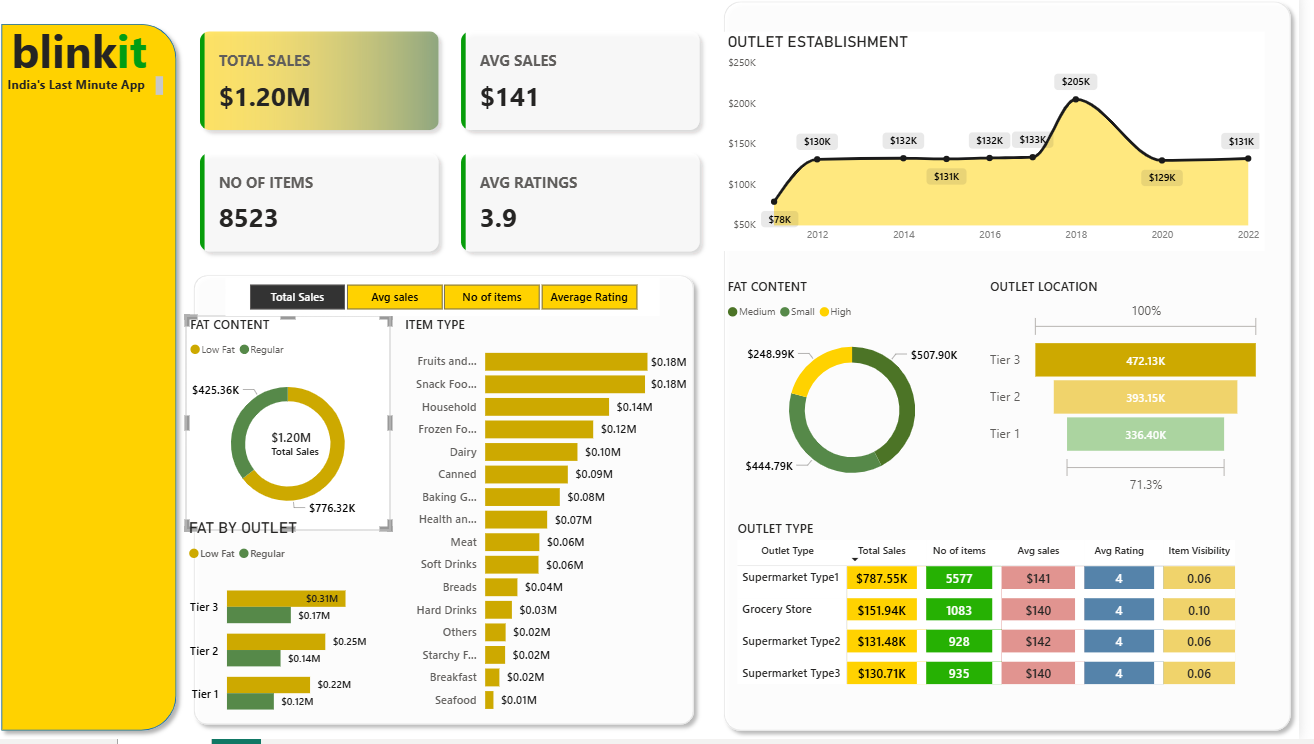

Layout of this report page (visuals, bound fields, positions):
{"tool":"powerbi","page":{"name":"Page 1","canvas":[1400,800],"ordinal":0},"visuals":[{"type":"shape","box":[0,24,205.6,775.9],"z":0},{"type":"textbox","box":[15,30,177.1,72],"z":1000},{"type":"textbox","box":[0,84,187.6,36],"z":2000},{"type":"cardVisual","fields":{"Data":["BlinkIT Grocery Data.Total Sales","BlinkIT Grocery Data.Avg sales","BlinkIT Grocery Data.No of items","BlinkIT Grocery Data.Average Rating"]},"box":[205.6,24,570.3,270.2],"z":3000},{"type":"shape","box":[206.3,293.6,554.1,499.9],"z":4000},{"type":"donutChart","title":"FAT CONTENT","fields":{"Y":["BlinkIT Grocery Data.Total Sales"],"Category":["BlinkIT Grocery Data.Item Fat Content"]},"box":[206.3,346.3,219.8,230.4],"z":5000},{"type":"slicer","fields":{"Values":["Mertics.Mertics"]},"box":[249.9,305.7,465.3,40.7],"z":6000},{"type":"cardVisual","fields":{"Data":["BlinkIT Grocery Data.Total Sales"]},"box":[281.5,445,91.2,75.1],"z":7000},{"type":"clusteredBarChart","title":"FAT BY OUTLET","fields":{"Y":["BlinkIT Grocery Data.Total Sales"],"Category":["BlinkIT Grocery Data.Outlet Location Type"],"Series":["BlinkIT Grocery Data.Item Fat Content"]},"box":[205.1,563,219.8,230.6],"z":8000},{"type":"barChart","title":"ITEM TYPE","fields":{"Y":["BlinkIT Grocery Data.Total Sales"],"Category":["BlinkIT Grocery Data.Item Type"]},"box":[437,345.8,312.3,437],"z":9000},{"type":"shape","box":[774.4,0,625.9,800.2],"z":10000},{"type":"lineChart","title":"OUTLET ESTABLISHMENT","fields":{"Y":["BlinkIT Grocery Data.Total Sales"],"Category":["BlinkIT Grocery Data.Outlet Establishment Year"]},"box":[783.5,40.9,580.4,234.9],"z":11000},{"type":"donutChart","title":"FAT CONTENT","fields":{"Y":["BlinkIT Grocery Data.Total Sales"],"Category":["BlinkIT Grocery Data.Outlet Size"]},"box":[783.5,306.1,277.3,237.9],"z":12000},{"type":"funnel","title":"OUTLET LOCATION","fields":{"Y":["Sum(BlinkIT Grocery Data.Sales)"],"Category":["BlinkIT Grocery Data.Outlet Location Type"]},"box":[1063.9,306.1,300.1,237.9],"z":13000},{"type":"pivotTable","title":"OUTLET TYPE","fields":{"Values":["BlinkIT Grocery Data.Total Sales","BlinkIT Grocery Data.No of items","BlinkIT Grocery Data.Avg sales","BlinkIT Grocery Data.Average Rating","Avg(BlinkIT Grocery Data.Item Visibility)"],"Rows":["BlinkIT Grocery Data.Outlet Type"]},"box":[794.1,563.8,585,218.2],"z":14000}]}

Visuals, with their boxes in screenshot pixels (x1, y1, x2, y2), scaled from the page's 1400x800 canvas onto the 1314x744 screenshot:
shape: crop(0, 22, 193, 743)
textbox: crop(14, 28, 180, 95)
textbox: crop(0, 78, 176, 112)
cardVisual - BlinkIT Grocery Data.Total Sales x BlinkIT Grocery Data.Avg sales: crop(193, 22, 728, 274)
shape: crop(194, 273, 714, 738)
"FAT CONTENT" donutChart: crop(194, 322, 400, 536)
slicer - Mertics.Mertics: crop(235, 284, 671, 322)
cardVisual - BlinkIT Grocery Data.Total Sales: crop(264, 414, 350, 484)
"FAT BY OUTLET" clusteredBarChart: crop(193, 524, 399, 738)
"ITEM TYPE" barChart: crop(410, 322, 703, 728)
shape: crop(727, 0, 1313, 743)
"OUTLET ESTABLISHMENT" lineChart: crop(735, 38, 1280, 256)
"FAT CONTENT" donutChart: crop(735, 285, 996, 506)
"OUTLET LOCATION" funnel: crop(999, 285, 1280, 506)
"OUTLET TYPE" pivotTable: crop(745, 524, 1294, 727)
